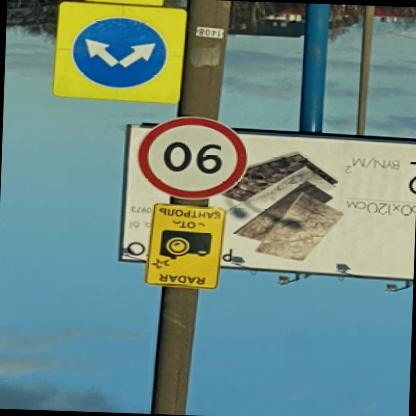speedlimit: (138, 116, 252, 203)
